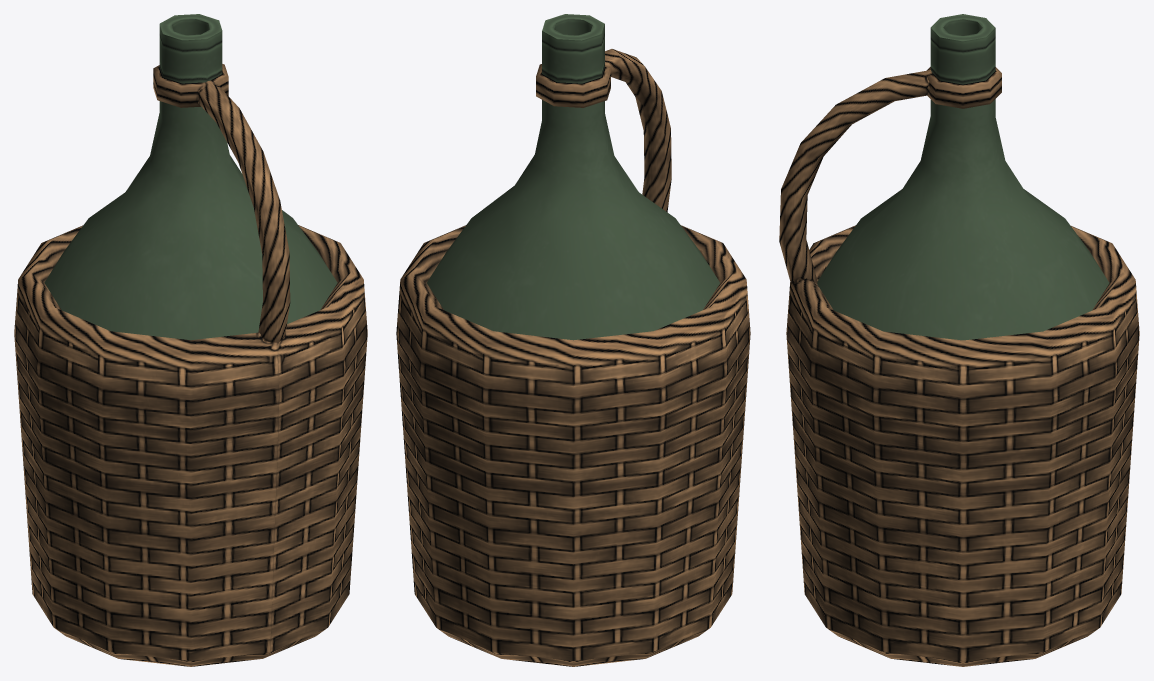
The model's file is LOD1_wickerBigBottle.fbx.
The picture shows the model from 3 angles, left to right: view 1: azimuth 30°, elevation 25°; view 2: azimuth 150°, elevation 25°; view 3: azimuth 270°, elevation 25°; orthographic projection.
Parts seen in each view (by area): view 1: LOD1_wickerBigBottle; view 2: LOD1_wickerBigBottle; view 3: LOD1_wickerBigBottle.
Part boxes in pixels (x1=…): LOD1_wickerBigBottle: x1=14, y1=14, x2=367, y2=666; LOD1_wickerBigBottle: x1=396, y1=14, x2=750, y2=666; LOD1_wickerBigBottle: x1=779, y1=14, x2=1139, y2=666.
Size of the model in its own units: 0.2261 by 0.4083 by 0.2306.
